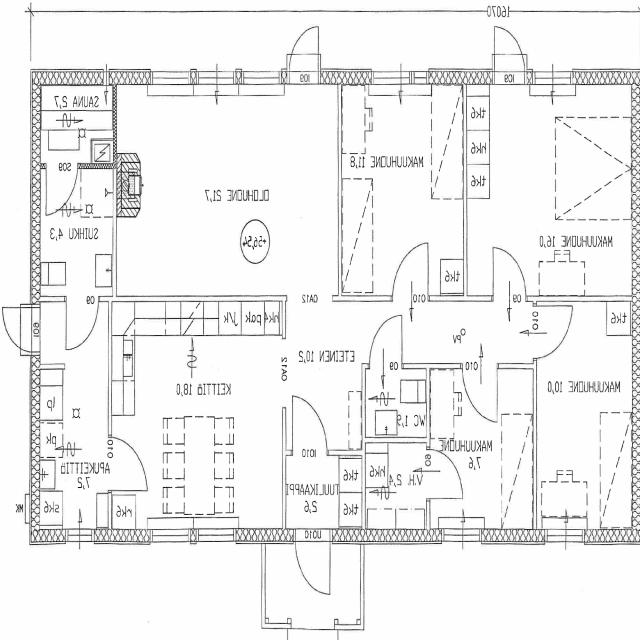door: (296, 529, 330, 595), (108, 437, 147, 490), (393, 243, 428, 301), (533, 306, 571, 358), (463, 364, 497, 421), (293, 399, 327, 455), (493, 247, 526, 301), (1, 308, 40, 352), (427, 449, 462, 498), (495, 25, 524, 84), (66, 296, 98, 349), (370, 316, 402, 369), (46, 163, 78, 216), (290, 26, 318, 84)
